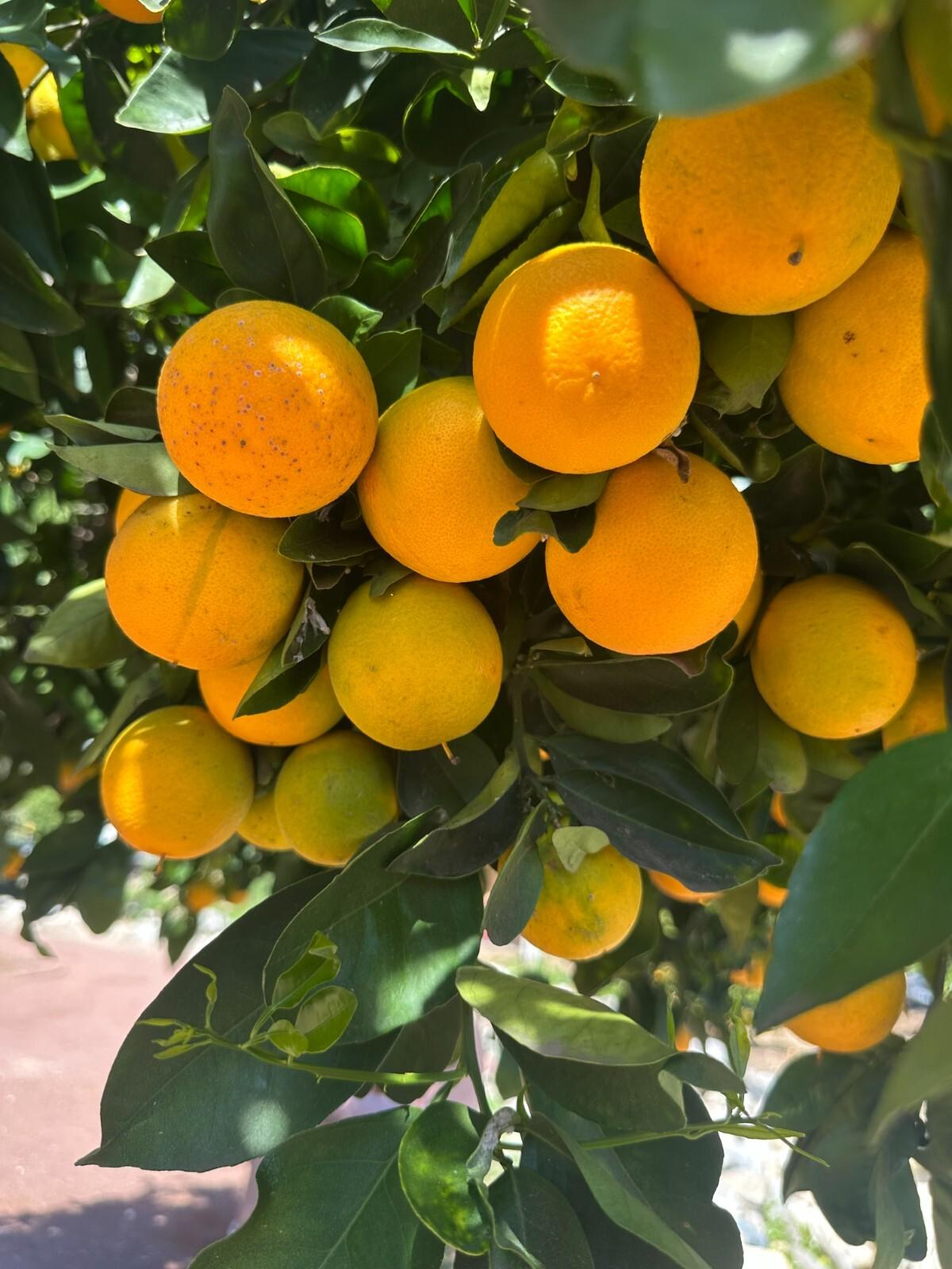orange: (639, 65, 899, 315), (474, 243, 699, 473), (159, 300, 378, 517), (545, 444, 757, 654), (357, 378, 539, 582), (779, 228, 931, 464), (105, 494, 304, 669), (328, 575, 502, 750), (750, 574, 915, 738), (495, 789, 644, 959), (102, 706, 254, 858), (198, 633, 344, 748), (275, 730, 397, 865), (0, 38, 82, 164), (787, 972, 904, 1052), (882, 658, 946, 749), (727, 565, 763, 659), (238, 788, 291, 851), (648, 870, 718, 903), (97, 0, 161, 24), (114, 489, 148, 532), (183, 878, 218, 913), (758, 877, 786, 908), (771, 792, 788, 829), (225, 886, 247, 903)
